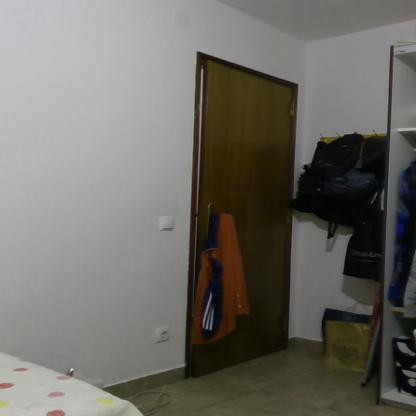door: (202, 59, 294, 376)
hinged: (286, 210, 293, 226), (290, 102, 296, 116)
